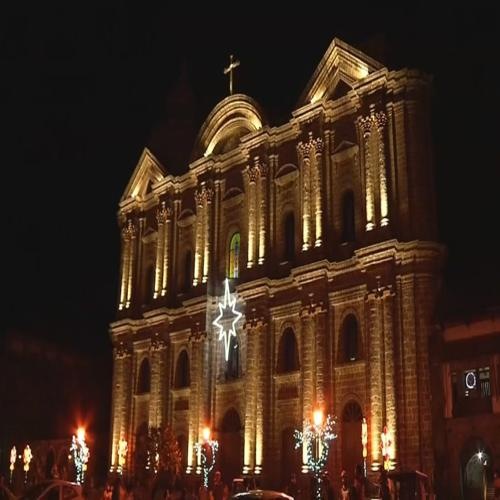Taal Basilica Church: (85, 41, 442, 487)
